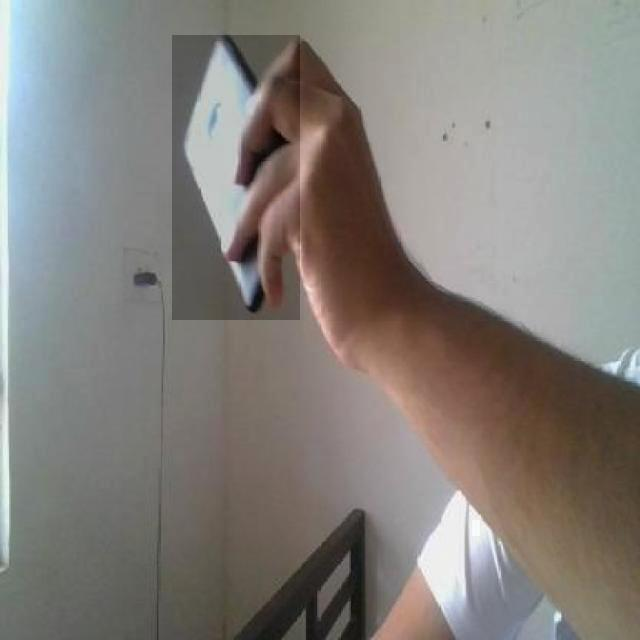phone: (178, 33, 306, 318)
